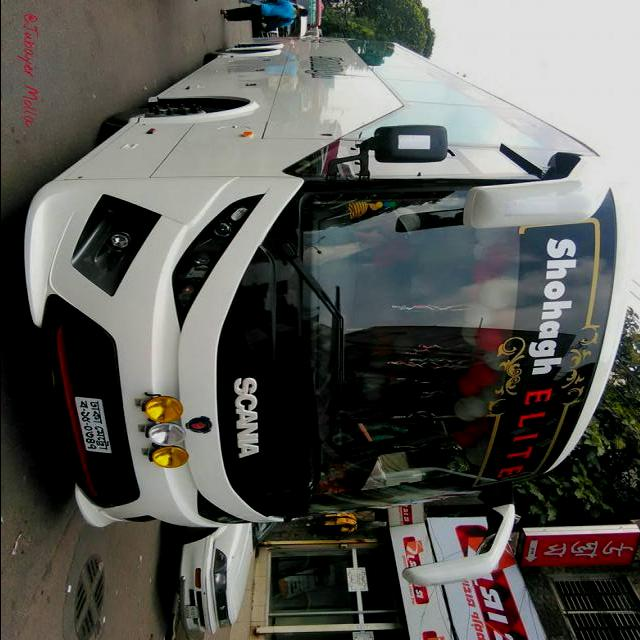bus: (20, 37, 640, 590)
